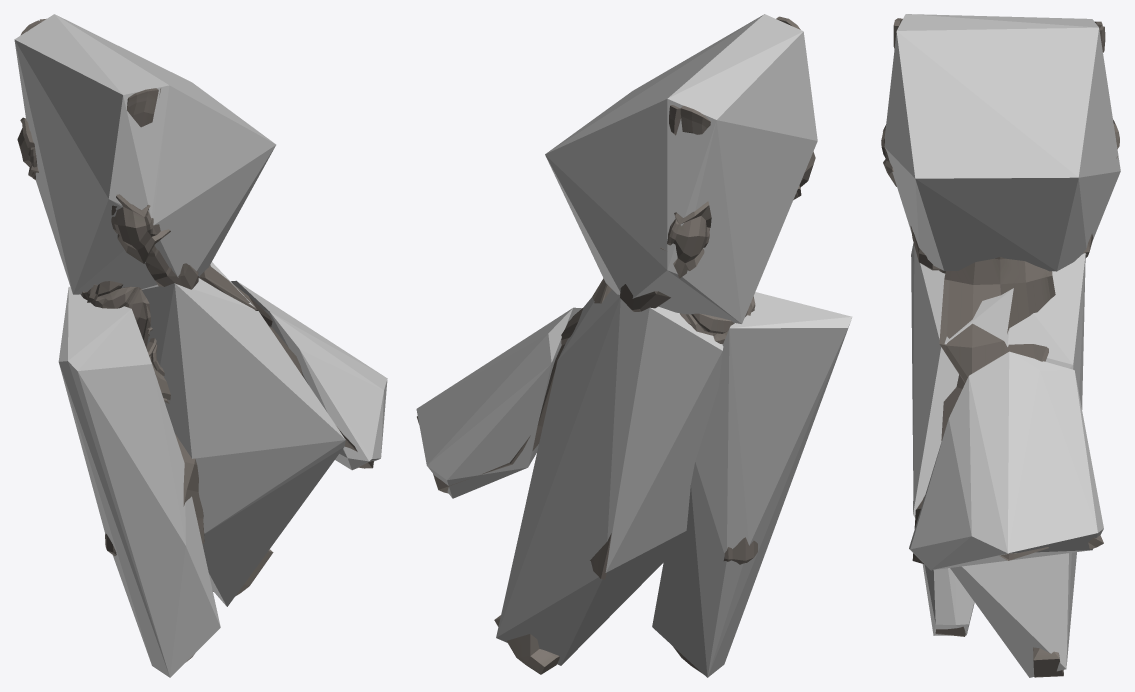
File: SM_Env_Bridge_Statue.fbx
3 views of the same model, side by side, from view 1: azimuth 30°, elevation 25°; view 2: azimuth 150°, elevation 25°; view 3: azimuth 270°, elevation 25° (orthographic). The views are drawn at different scales.
Parts seen in each view (by area): view 1: SM_Env_Bridge_Statue_ConvexHulls, SM_Env_Bridge_Statue; view 2: SM_Env_Bridge_Statue_ConvexHulls, SM_Env_Bridge_Statue; view 3: SM_Env_Bridge_Statue_ConvexHulls, SM_Env_Bridge_Statue.
Boxes of the visible parts, x1,y1,x2,y2 form: SM_Env_Bridge_Statue_ConvexHulls: (14, 14, 387, 677); SM_Env_Bridge_Statue: (17, 18, 373, 661); SM_Env_Bridge_Statue_ConvexHulls: (416, 14, 852, 677); SM_Env_Bridge_Statue: (417, 16, 815, 674); SM_Env_Bridge_Statue_ConvexHulls: (884, 14, 1120, 677); SM_Env_Bridge_Statue: (881, 18, 1119, 677).
Bounding box in the file's own units: 886 × 510 × 1398.
2 materials, 1 textured.
